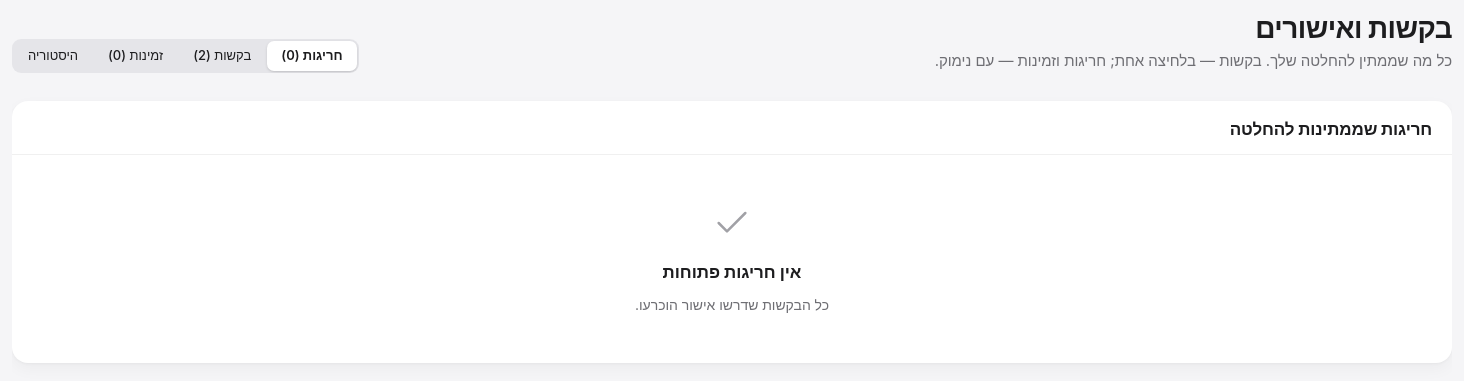
Test: משמרות לפי מיקום ואישור בלחיצה › אישורים: בקשה רגילה בלחיצה אחת, ובקשה עם חריגה פתוחה נעולה
Click the button "בקשות (2)": (222, 56) [179,41,265,71]
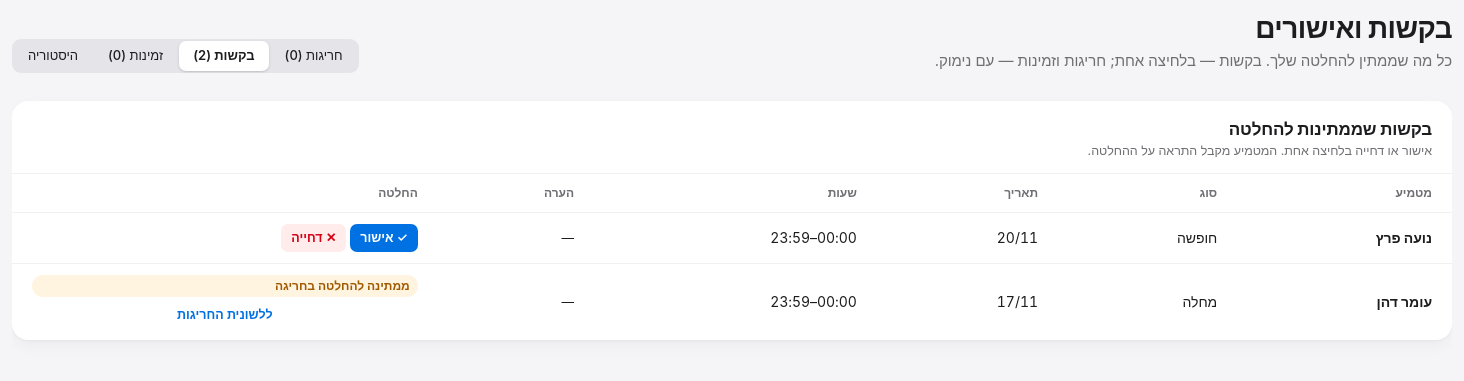
Now the button with aria-label "אישור הבקשה של נועה פרץ" is shown, box [350,224,418,252]
Now the button with aria-label "דחיית הבקשה של נועה פרץ" is shown, box [281,224,346,252]
Now the text "ממתינה להחלטה בחריגה" is shown, box [32,275,418,297]
